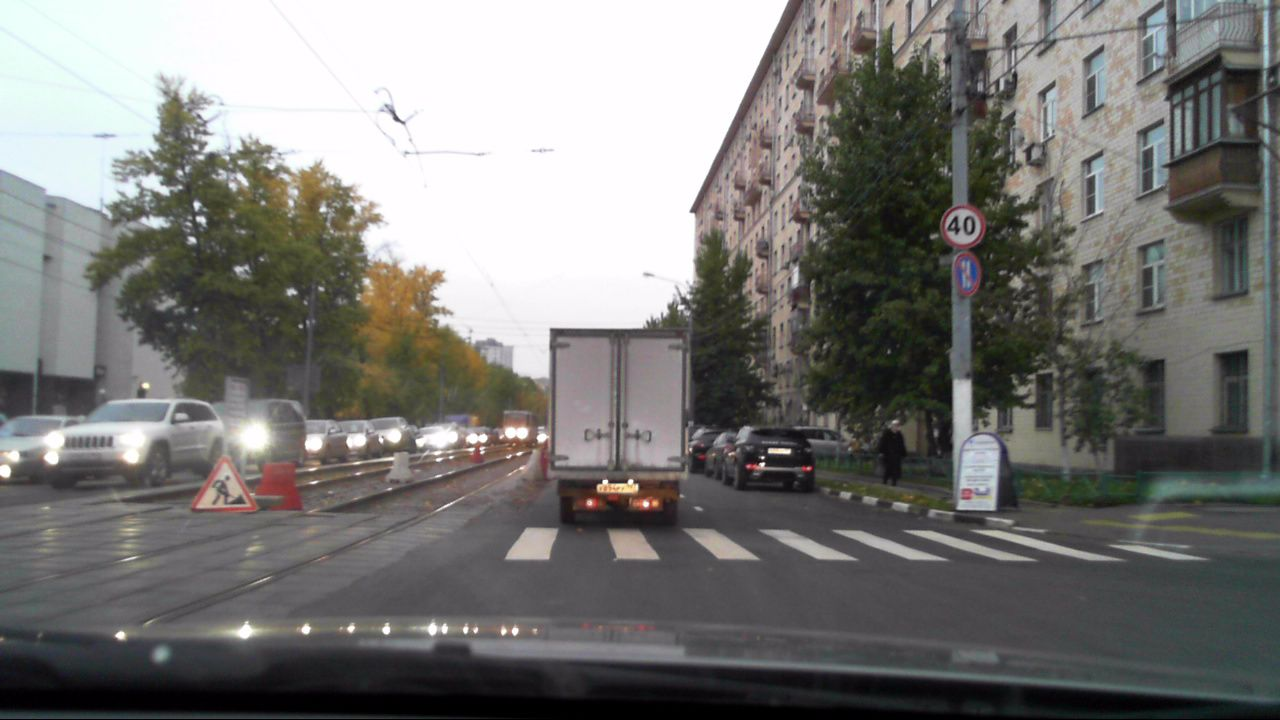speed_warning_40: (940, 207, 983, 248)
